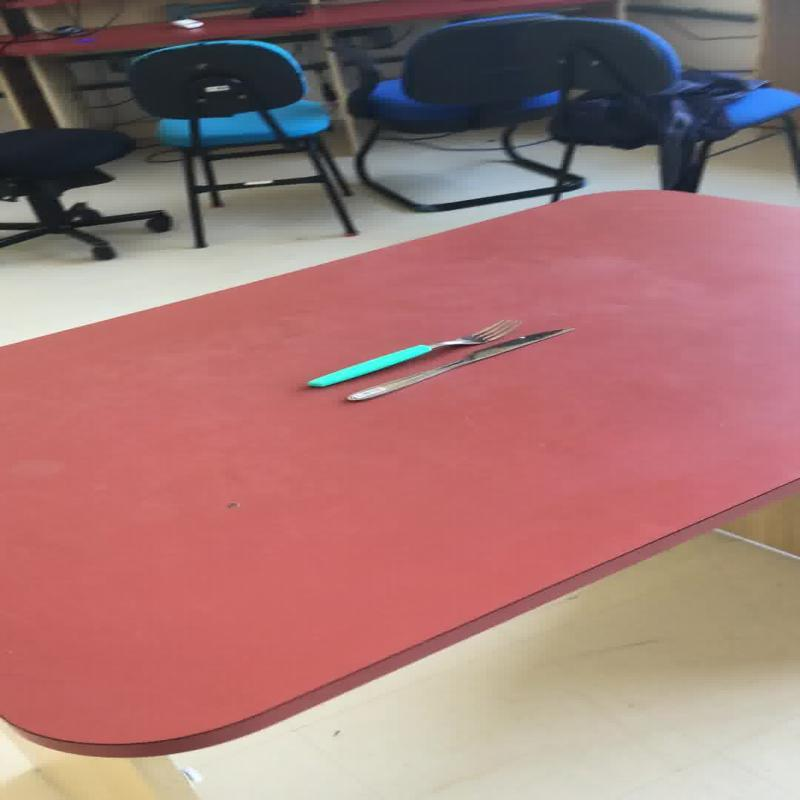fork: (304, 318, 520, 388)
knife: (342, 325, 574, 402), (304, 317, 521, 388)
